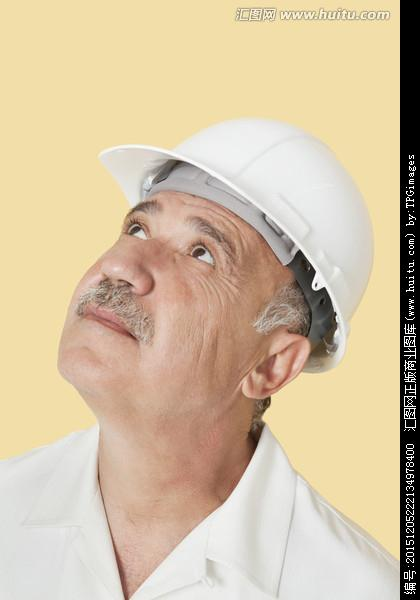helmet: (99, 97, 368, 368)
